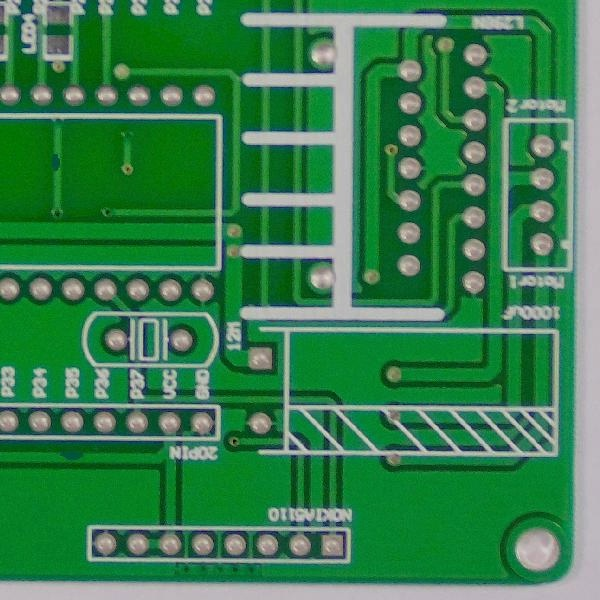mouse_bite: (53, 445, 89, 469), (45, 150, 67, 175)
